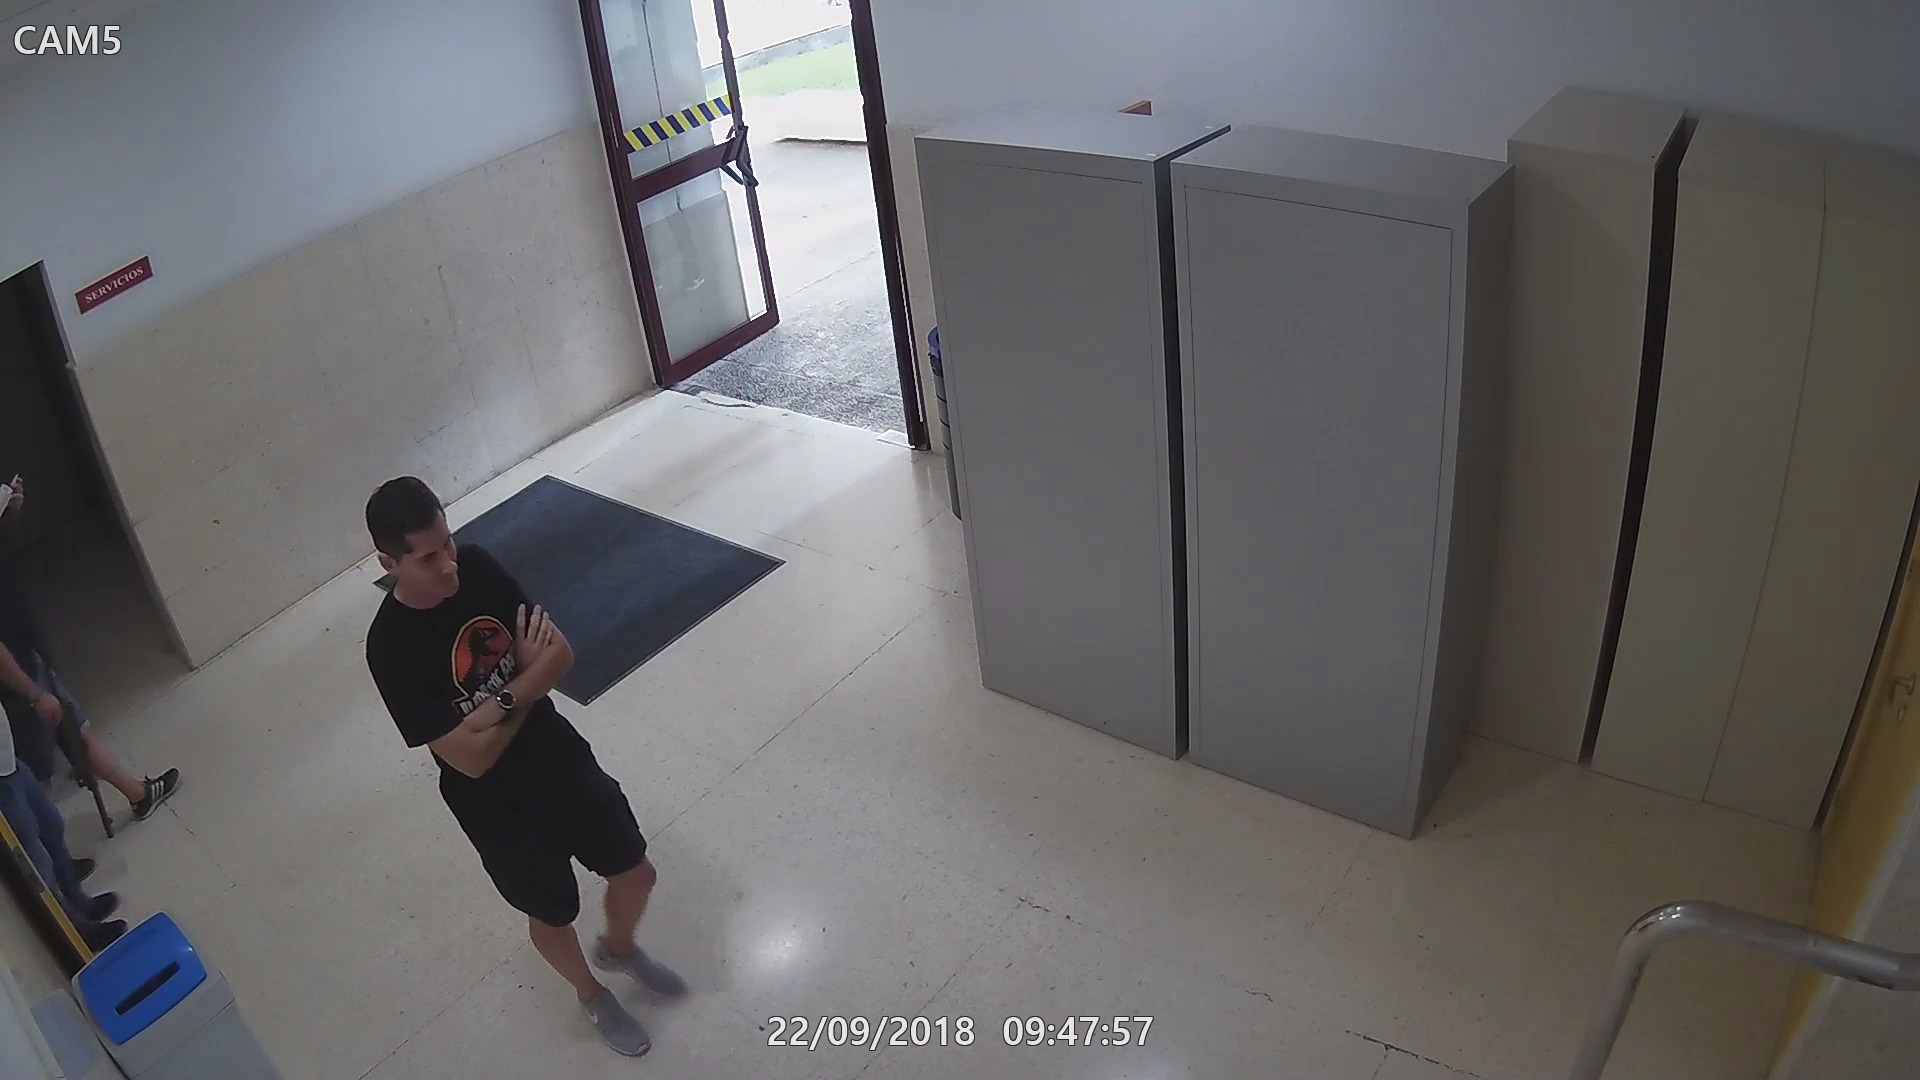rifle: (34, 682, 116, 836)
